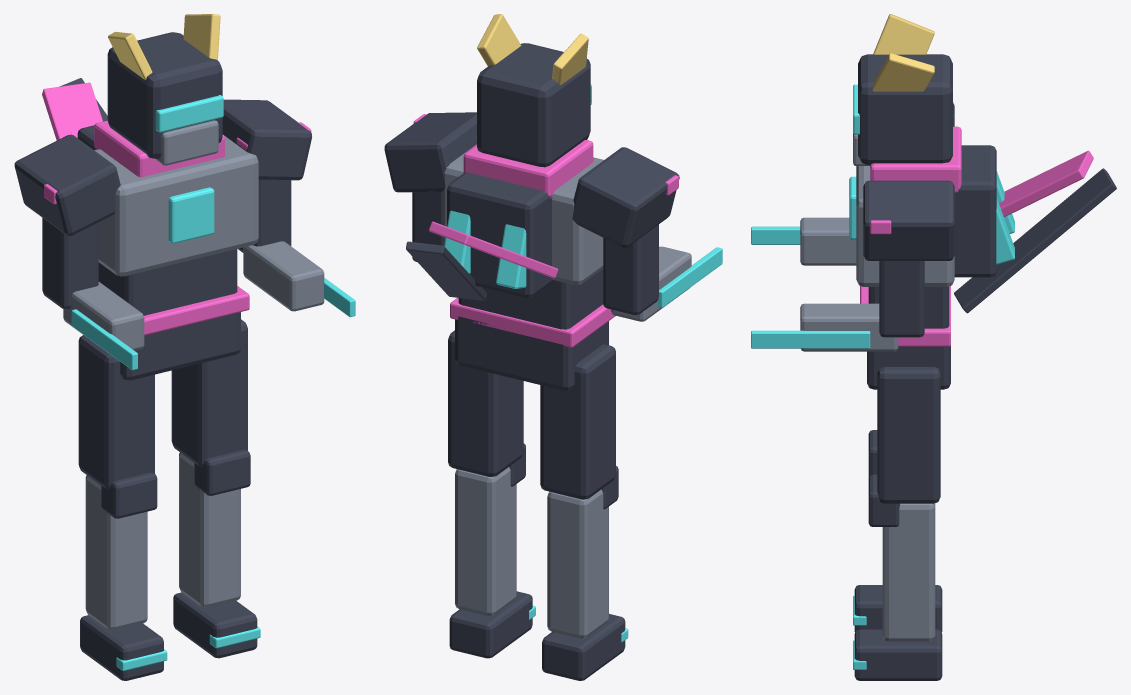
The model's file is Cyber_NinjaBot.fbx.
The picture shows the model from 3 angles, left to right: view 1: azimuth 30°, elevation 25°; view 2: azimuth 150°, elevation 25°; view 3: azimuth 270°, elevation 25°; orthographic projection. The views are drawn at different scales.
Parts seen in each view (by area): view 1: Bot_ChestArmor, Bot_Thigh_-1, Bot_Helmet, Bot_Shin_-1, Bot_Thigh_1, Bot_Shin_1, Bot_Pauldron_-1, Bot_TorsoLower, Bot_Pauldron_1, Bot_Pelvis, Bot_Forearm_1, Bot_UpperArm_-1 (+18 smaller); view 2: Bot_Helmet, Bot_Thigh_-1, Bot_Shin_-1, Bot_Shin_1, Bot_Thigh_1, Bot_BackPack, Bot_Pauldron_-1, Bot_Pelvis, Bot_Pauldron_1, Bot_ChestArmor, Bot_TorsoLower, Bot_UpperArm_-1 (+13 smaller); view 3: Bot_Thigh_1, Bot_Helmet, Bot_Pauldron_1, Bot_Shin_1, Bot_BackPack, Bot_ScarfTail2, Bot_Boot_1, Bot_UpperArm_1, Bot_Forearm_1, Bot_Forearm_-1, Bot_ScarfTail1, Bot_ChestArmor (+11 smaller).
Boxes of the visible parts, x1,y1,x2,y2 form: Bot_ChestArmor: (94, 135, 258, 276); Bot_Thigh_-1: (78, 335, 154, 489); Bot_Helmet: (107, 32, 222, 158); Bot_Shin_-1: (85, 475, 147, 630); Bot_Thigh_1: (171, 319, 247, 466); Bot_Shin_1: (179, 452, 240, 607); Bot_Pauldron_-1: (14, 134, 120, 235); Bot_TorsoLower: (98, 249, 237, 315); Bot_Pauldron_1: (222, 99, 311, 180); Bot_Pelvis: (120, 312, 240, 380); Bot_Forearm_1: (243, 241, 324, 311); Bot_UpperArm_-1: (42, 218, 98, 309); Bot_Helmet: (477, 43, 590, 167); Bot_Thigh_-1: (540, 344, 615, 499); Bot_Shin_-1: (547, 489, 608, 638); Bot_Shin_1: (455, 467, 516, 615); Bot_Thigh_1: (448, 330, 523, 476); Bot_BackPack: (447, 172, 552, 297); Bot_Pauldron_-1: (572, 147, 679, 247); Bot_Pelvis: (455, 316, 608, 390); Bot_Pauldron_1: (384, 112, 476, 192); Bot_ChestArmor: (441, 144, 603, 284); Bot_TorsoLower: (458, 269, 603, 329); Bot_UpperArm_-1: (603, 224, 658, 314); Bot_Thigh_1: (877, 367, 940, 503); Bot_Helmet: (858, 54, 952, 164); Bot_Pauldron_1: (863, 180, 954, 260); Bot_Shin_1: (882, 503, 935, 641); Bot_BackPack: (954, 145, 996, 277); Bot_ScarfTail2: (954, 168, 1116, 313); Bot_Boot_1: (854, 629, 942, 680); Bot_UpperArm_1: (879, 261, 924, 337); Bot_Forearm_1: (800, 303, 898, 351); Bot_Forearm_-1: (800, 217, 856, 265); Bot_ScarfTail1: (999, 150, 1093, 217); Bot_ChestArmor: (856, 166, 954, 286).
Size of the model in its own units: 0.83 by 1.94 by 1.04.
